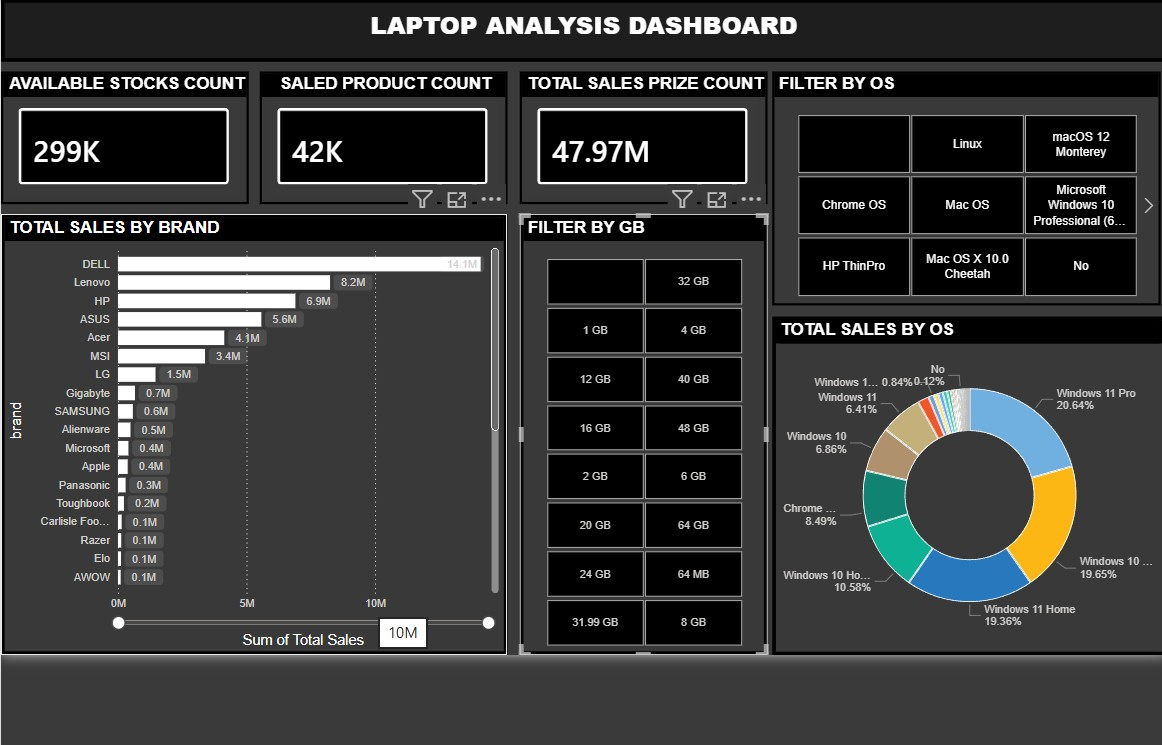

This screenshot's page, from the dashboard's own definition file:
{"tool":"powerbi","page":{"name":"Page 1","canvas":[1280,720],"ordinal":0},"visuals":[{"type":"textbox","box":[0,0,1280.3,68.6],"z":0},{"type":"cardVisual","title":"SALED PRODUCT COUNT","fields":{"Data":["Sum(amazon_laptop_prices_v01 (1).Sale Product Count)"]},"box":[284,79.6,271.7,145.5],"z":1000},{"type":"cardVisual","title":"AVAILABLE STOCKS COUNT","fields":{"Data":["Sum(amazon_laptop_prices_v01 (1).Available Stock)"]},"box":[0,79.6,271.7,145.5],"z":2000},{"type":"cardVisual","title":"TOTAL SALES PRIZE COUNT","fields":{"Data":["Sum(amazon_laptop_prices_v01 (1).Total Sales)"]},"box":[569.5,79.6,271.7,145.5],"z":3000},{"type":"clusteredBarChart","title":"TOTAL SALES BY BRAND","fields":{"Category":["amazon_laptop_prices_v01 (1).brand"],"Y":["Sum(amazon_laptop_prices_v01 (1).Total Sales)"]},"box":[0,236,555.7,484.4],"z":4000},{"type":"slicer","title":"FILTER BY GB","fields":{"Values":["amazon_laptop_prices_v01 (1).ram"]},"box":[569.5,236,271.7,484.4],"z":5000},{"type":"donutChart","title":"TOTAL SALES BY OS","fields":{"Category":["amazon_laptop_prices_v01 (1).OS"],"Y":["Sum(amazon_laptop_prices_v01 (1).Total Sales)"]},"box":[846.7,348.5,433.6,371.9],"z":6000},{"type":"slicer","title":"FILTER BY OS","fields":{"Values":["amazon_laptop_prices_v01 (1).OS"]},"box":[846.7,79.6,426.8,256.6],"z":7000}]}

Visuals, with their boxes on the page's 1280x720 design canvas (x1, y1, x2, y2). These are canvas units, not pixel positions in the 1162x745 screenshot, which may show the page scaled, cropped or inside an application window:
textbox: pyautogui.locateOnScreen(0, 0, 1280, 69)
"SALED PRODUCT COUNT" cardVisual: pyautogui.locateOnScreen(284, 80, 556, 225)
"AVAILABLE STOCKS COUNT" cardVisual: pyautogui.locateOnScreen(0, 80, 272, 225)
"TOTAL SALES PRIZE COUNT" cardVisual: pyautogui.locateOnScreen(570, 80, 841, 225)
"TOTAL SALES BY BRAND" clusteredBarChart: pyautogui.locateOnScreen(0, 236, 556, 720)
"FILTER BY GB" slicer: pyautogui.locateOnScreen(570, 236, 841, 720)
"TOTAL SALES BY OS" donutChart: pyautogui.locateOnScreen(847, 348, 1280, 720)
"FILTER BY OS" slicer: pyautogui.locateOnScreen(847, 80, 1274, 336)
